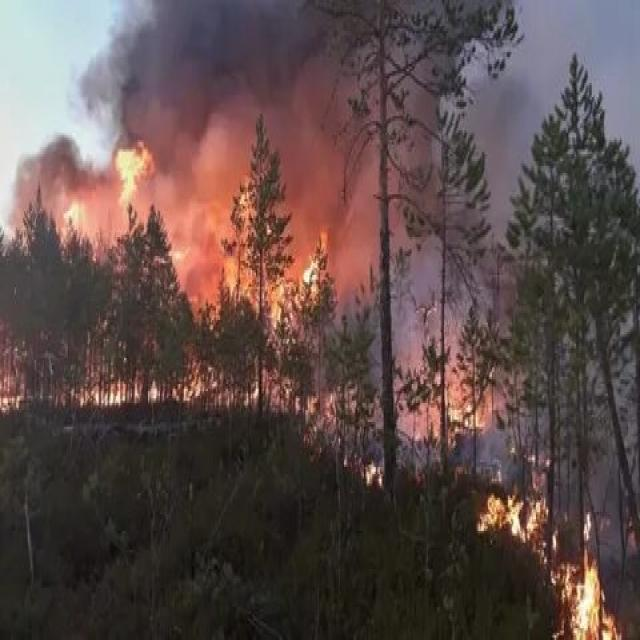Fire: (0, 101, 205, 427), (466, 456, 640, 640), (298, 226, 347, 345)
Smoke: (68, 0, 500, 213)
